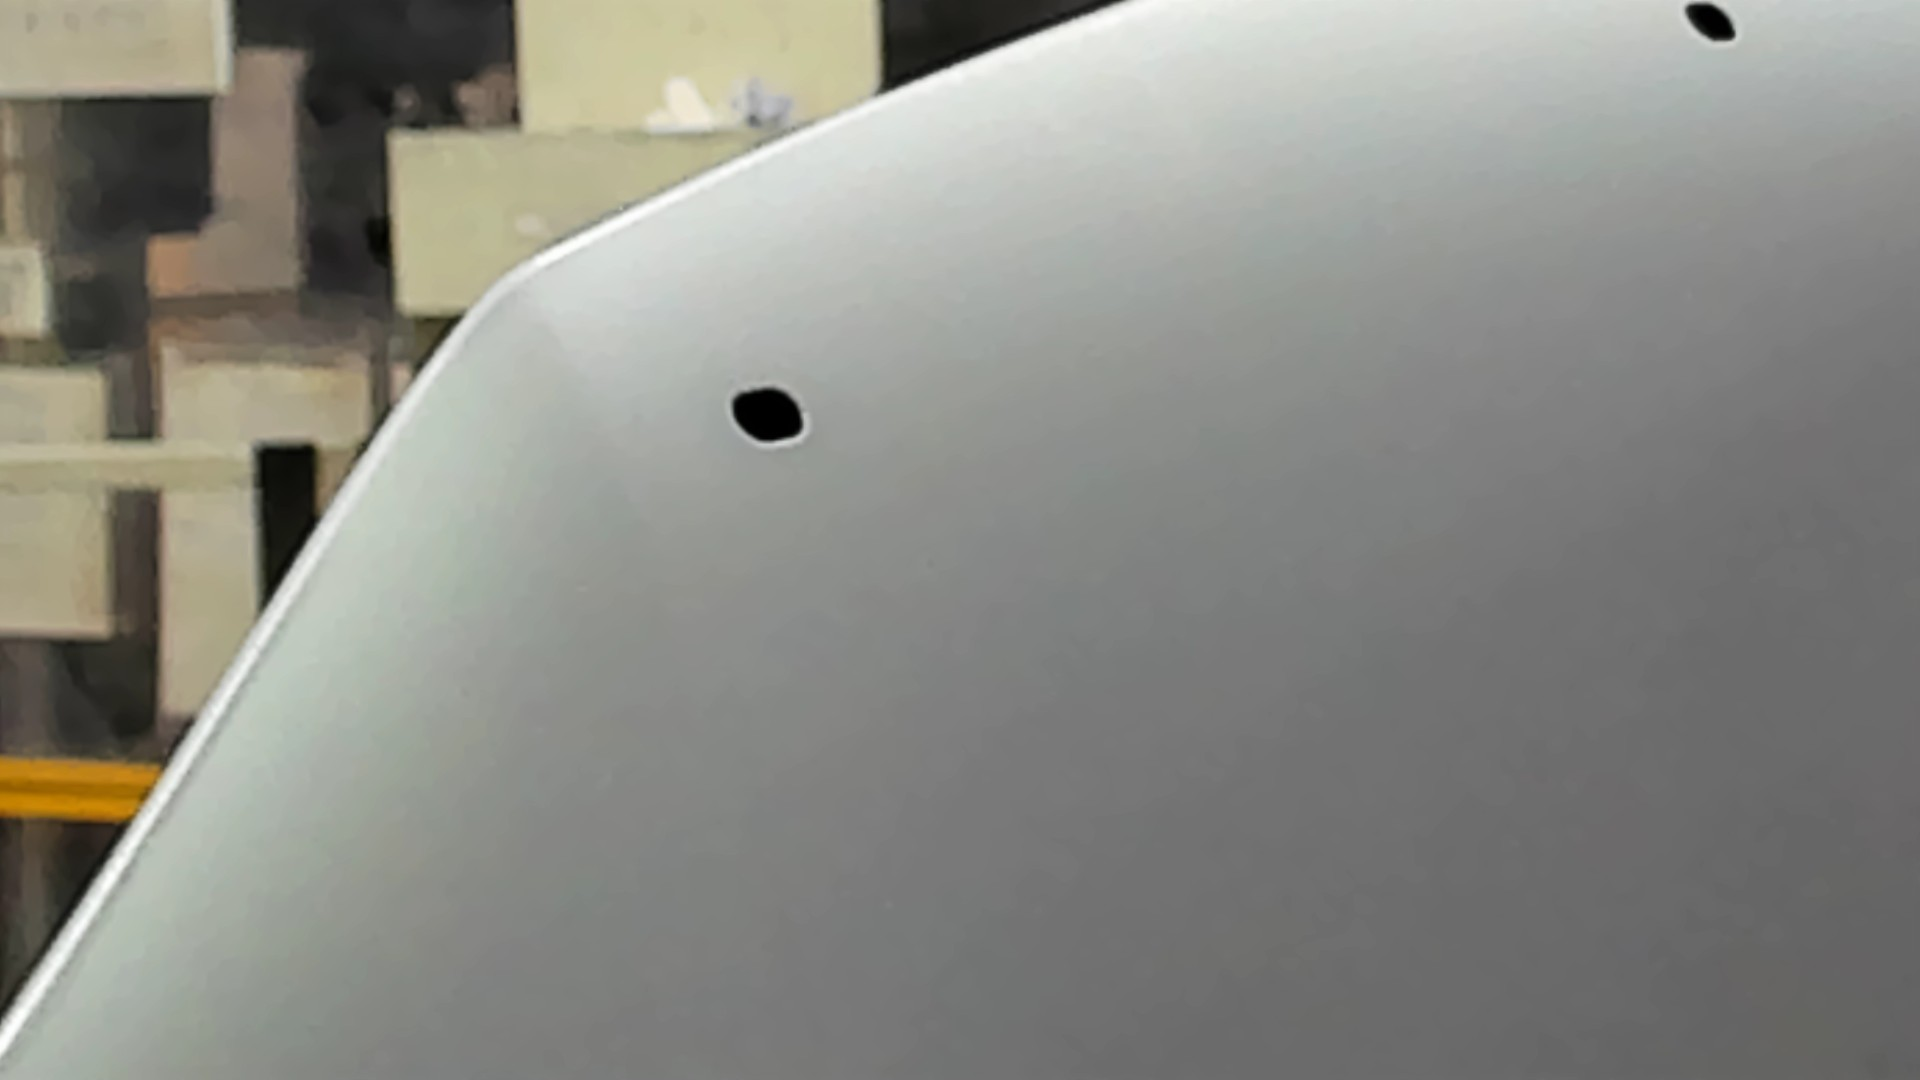amorfo: (725, 377, 814, 450), (1677, 1, 1741, 50)
